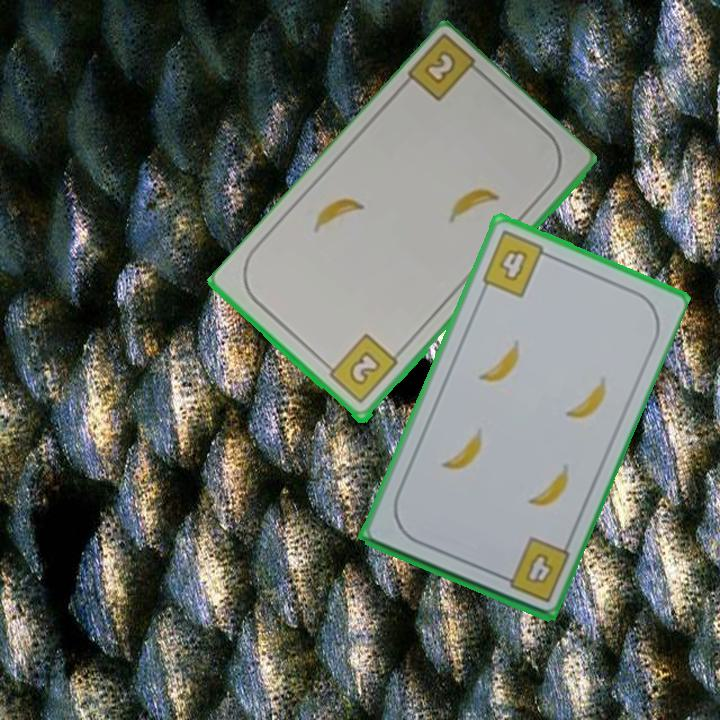2b: (320, 331, 401, 407), (420, 47, 460, 88)
4b: (478, 227, 555, 301), (493, 533, 572, 605)
